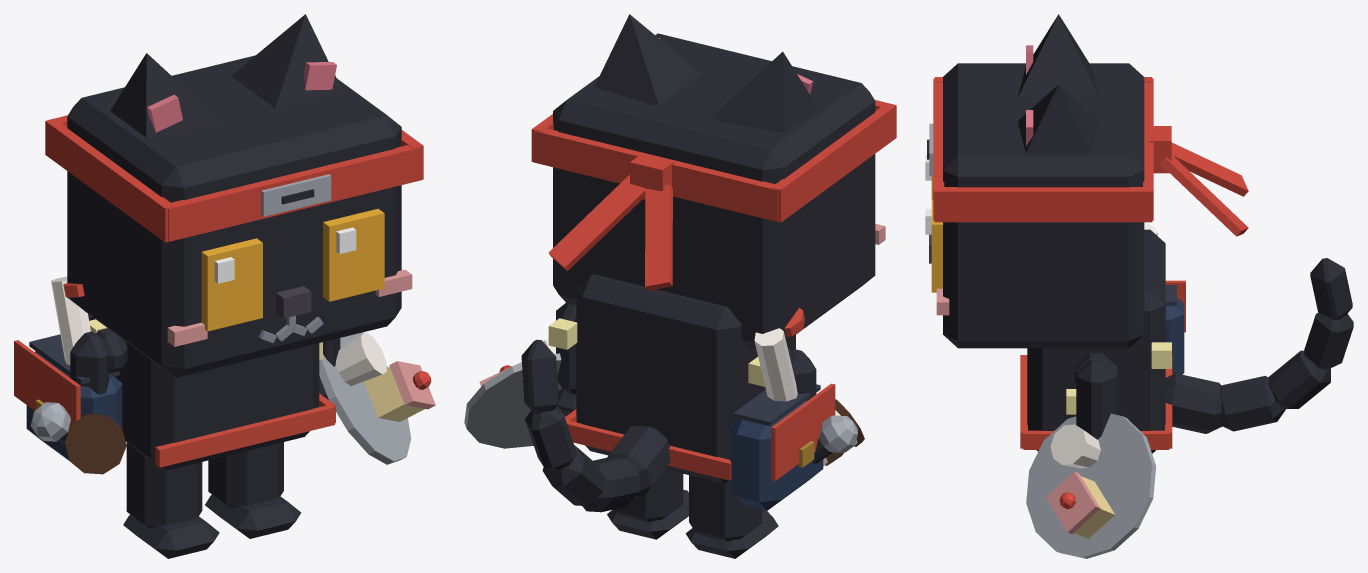
The model's file is CatCafe_Cat_Void_Work.glb.
3 views of the same model, side by side, from view 1: azimuth 30°, elevation 25°; view 2: azimuth 150°, elevation 25°; view 3: azimuth 270°, elevation 25° (orthographic). The views are drawn at different scales.
Visible parts, largest first — view 1: CatCafe_Cat_Void_Work_Head, CatCafe_Cat_Void_Work_Body, CatCafe_Cat_Void_Work_Prop, CatCafe_Cat_Void_Work_Held_Waiter, CatCafe_Cat_Void_Work_LegB2, CatCafe_Cat_Void_Work_LegB1, CatCafe_Cat_Void_Work_EarL, CatCafe_Cat_Void_Work_Eye1, CatCafe_Cat_Void_Work_Eye2, CatCafe_Cat_Void_Work_EarR, CatCafe_Cat_Void_Work_Held_Barista, CatCafe_Cat_Void_Work_LegF2 (+1 smaller); view 2: CatCafe_Cat_Void_Work_Head, CatCafe_Cat_Void_Work_Body, CatCafe_Cat_Void_Work_Prop, CatCafe_Cat_Void_Work_Tail, CatCafe_Cat_Void_Work_EarL, CatCafe_Cat_Void_Work_LegB2, CatCafe_Cat_Void_Work_EarR, CatCafe_Cat_Void_Work_Held_Waiter, CatCafe_Cat_Void_Work_LegB1, CatCafe_Cat_Void_Work_LegF1, CatCafe_Cat_Void_Work_Held_Entertainer, CatCafe_Cat_Void_Work_LegF2; view 3: CatCafe_Cat_Void_Work_Head, CatCafe_Cat_Void_Work_Body, CatCafe_Cat_Void_Work_Prop, CatCafe_Cat_Void_Work_Held_Waiter, CatCafe_Cat_Void_Work_Tail, CatCafe_Cat_Void_Work_EarL, CatCafe_Cat_Void_Work_EarR, CatCafe_Cat_Void_Work_LegF1, CatCafe_Cat_Void_Work_Eye1.
Part boxes in pixels (box(x1,y1,x2,y2)): CatCafe_Cat_Void_Work_Head: box(67, 55, 412, 377); CatCafe_Cat_Void_Work_Body: box(14, 276, 335, 470); CatCafe_Cat_Void_Work_Prop: box(45, 115, 423, 242); CatCafe_Cat_Void_Work_Held_Waiter: box(319, 332, 435, 464); CatCafe_Cat_Void_Work_LegB2: box(123, 443, 219, 558); CatCafe_Cat_Void_Work_LegB1: box(205, 442, 301, 538); CatCafe_Cat_Void_Work_EarL: box(231, 14, 341, 108); CatCafe_Cat_Void_Work_Eye1: box(323, 208, 384, 301); CatCafe_Cat_Void_Work_Eye2: box(201, 238, 262, 331); CatCafe_Cat_Void_Work_EarR: box(110, 53, 220, 137); CatCafe_Cat_Void_Work_Held_Barista: box(64, 414, 126, 474); CatCafe_Cat_Void_Work_LegF2: box(70, 331, 109, 394); CatCafe_Cat_Void_Work_Head: box(553, 33, 885, 349); CatCafe_Cat_Void_Work_Body: box(548, 274, 835, 510); CatCafe_Cat_Void_Work_Prop: box(531, 100, 896, 290); CatCafe_Cat_Void_Work_Tail: box(521, 339, 670, 512); CatCafe_Cat_Void_Work_EarL: box(594, 14, 701, 104); CatCafe_Cat_Void_Work_LegB2: box(685, 475, 778, 558); CatCafe_Cat_Void_Work_EarR: box(711, 51, 817, 132); CatCafe_Cat_Void_Work_Held_Waiter: box(464, 339, 565, 448); CatCafe_Cat_Void_Work_LegB1: box(607, 469, 688, 539); CatCafe_Cat_Void_Work_LegF1: box(556, 303, 576, 416); CatCafe_Cat_Void_Work_Held_Entertainer: box(812, 415, 857, 463); CatCafe_Cat_Void_Work_LegF2: box(789, 349, 816, 400); CatCafe_Cat_Void_Work_Head: box(929, 63, 1144, 348); CatCafe_Cat_Void_Work_Body: box(1020, 222, 1185, 453); CatCafe_Cat_Void_Work_Prop: box(927, 77, 1248, 236); CatCafe_Cat_Void_Work_Held_Waiter: box(1026, 413, 1155, 558); CatCafe_Cat_Void_Work_Tail: box(1165, 258, 1353, 433); CatCafe_Cat_Void_Work_EarL: box(1018, 84, 1098, 153); CatCafe_Cat_Void_Work_EarR: box(1018, 14, 1098, 96); CatCafe_Cat_Void_Work_LegF1: box(1076, 359, 1116, 439); CatCafe_Cat_Void_Work_Eye1: box(925, 200, 942, 292).
Bounding box in the file's own units: 1.53 × 1.93 × 1.62.
1 material, 1 textured.
